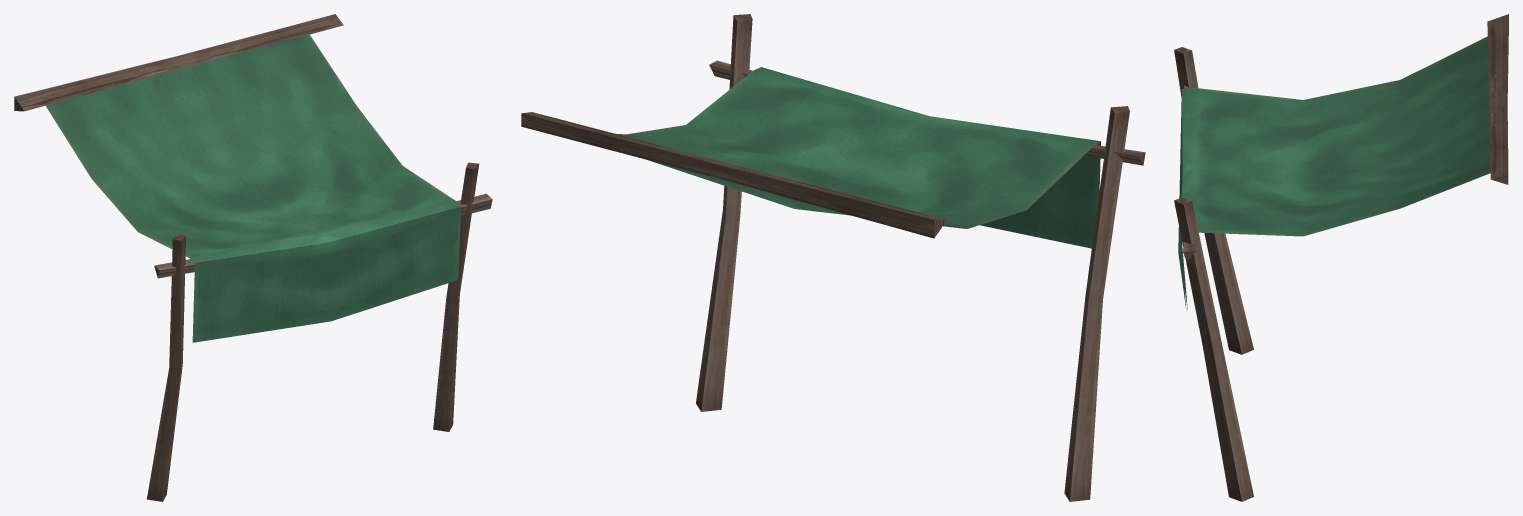
File: handan_field_a_r02.fbx
3 renders of one model, left to right at view 1: azimuth 30°, elevation 25°; view 2: azimuth 150°, elevation 25°; view 3: azimuth 270°, elevation 25°, orthographic. The views are drawn at different scales.
Parts seen in each view (by area): view 1: handan_field_a_r02; view 2: handan_field_a_r02; view 3: handan_field_a_r02.
Part boxes in pixels (x1,y1,x2,y2): handan_field_a_r02: (14, 14, 492, 501); handan_field_a_r02: (521, 14, 1145, 501); handan_field_a_r02: (1174, 14, 1508, 501).
Size of the model in its own units: 396 by 359 by 327.
